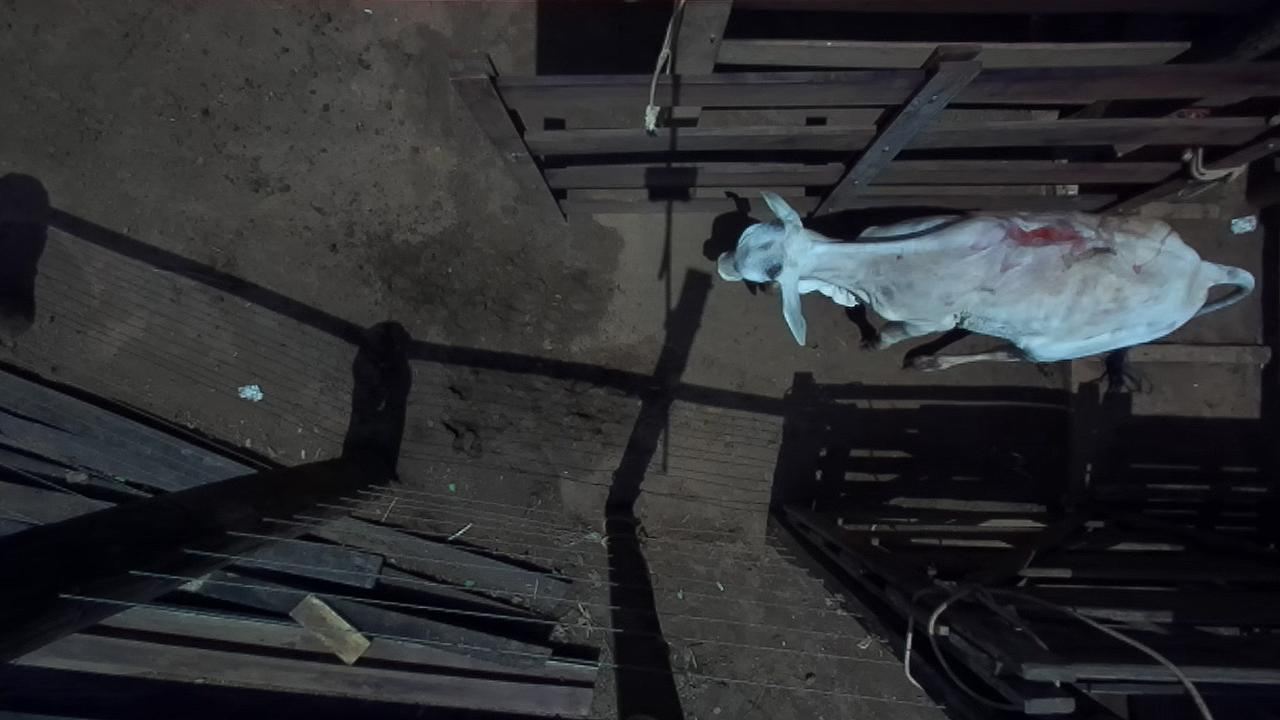cattle: (714, 188, 1255, 371)
